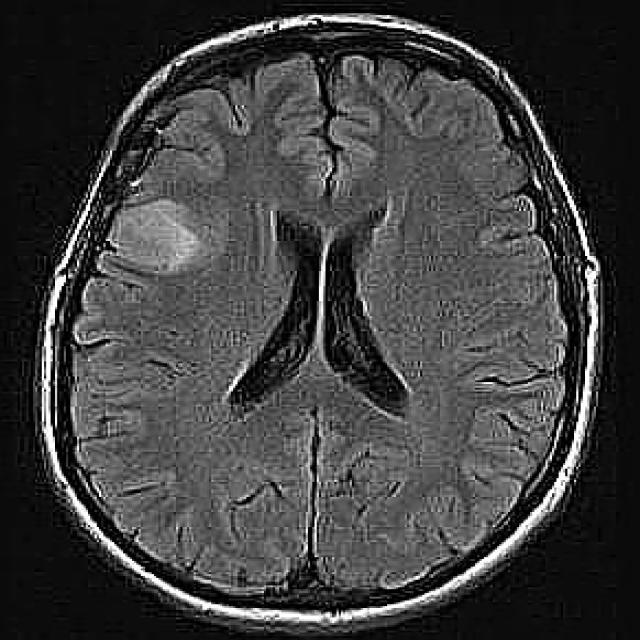Tumor-Cell: (110, 172, 208, 270)
